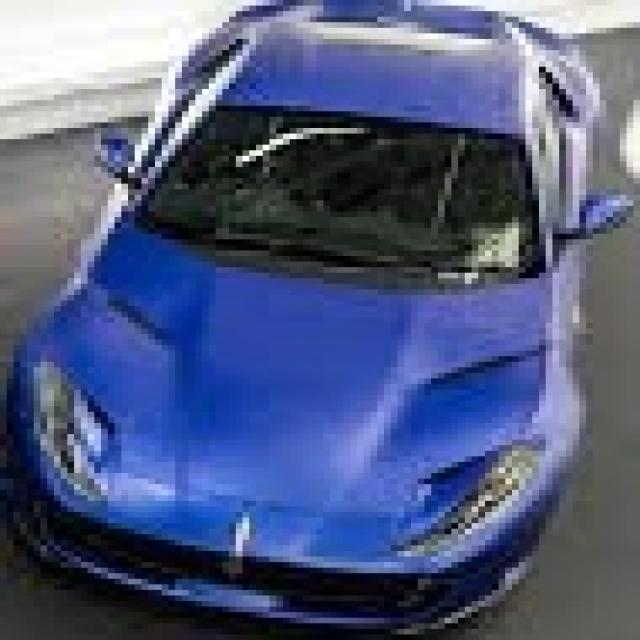blue: (5, 0, 599, 640)
